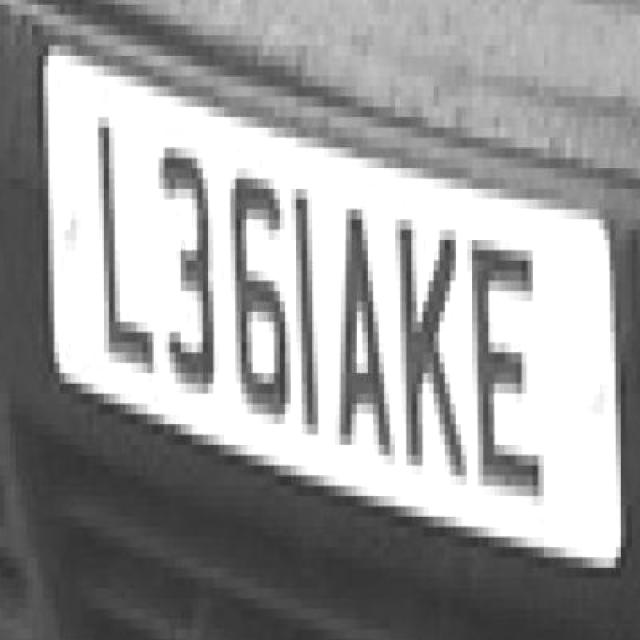licenseplate: (30, 15, 640, 588)
